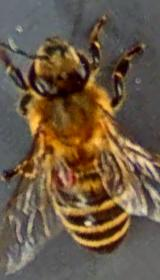varroa_mite: (43, 162, 88, 193)
